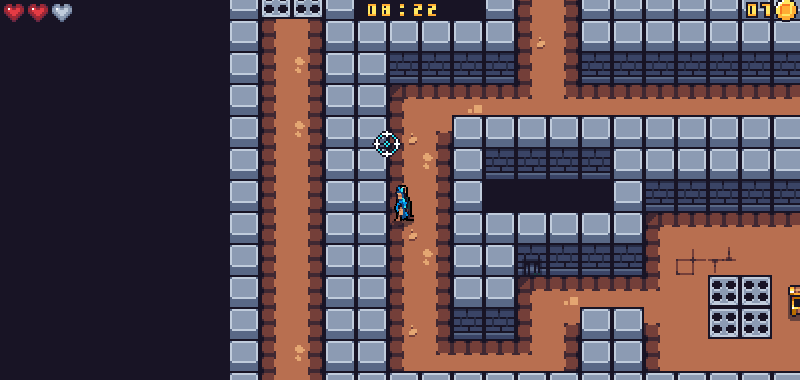trap_off: (707, 273, 773, 336)
